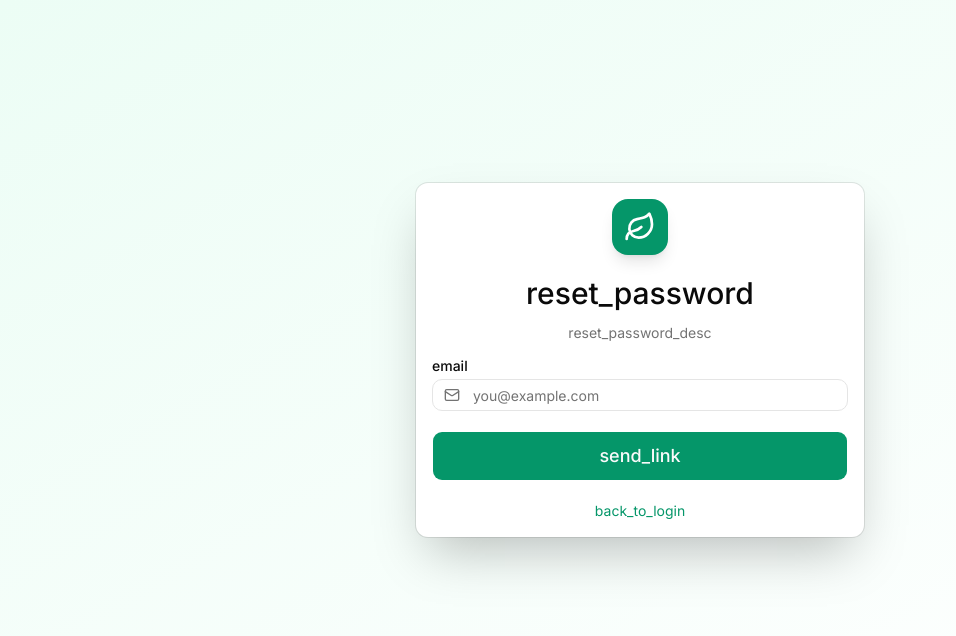
it: ForgotPasswordPage › shows error on failure
Expected: the text "reset_password" is shown, [526,275,754,311]
Type "test@example.com" into the field labelled "email" at (640, 395), box [432,379,848,411]
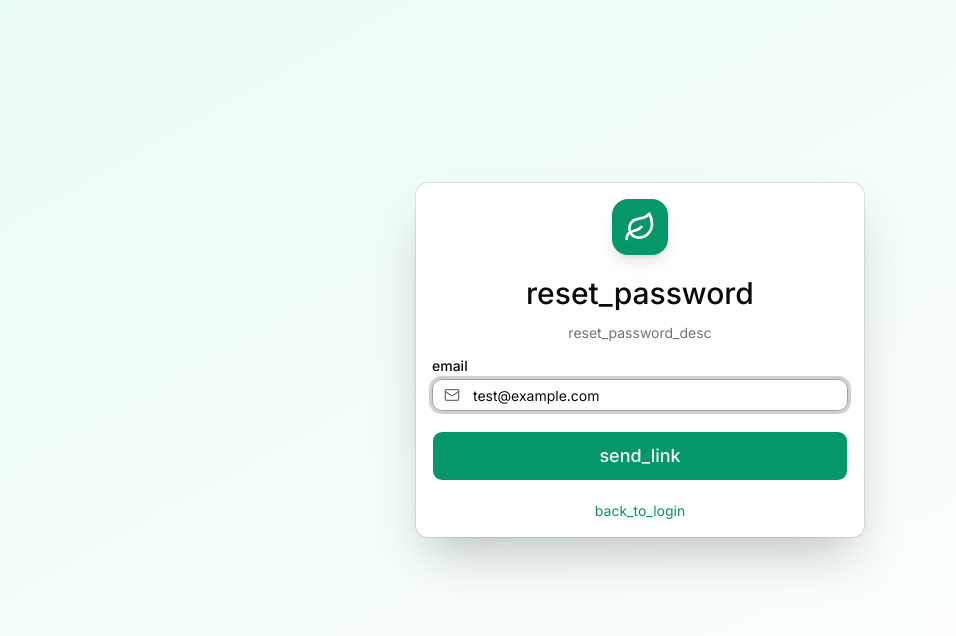
Click the button "send_link" at (640, 456), box [432,431,848,481]
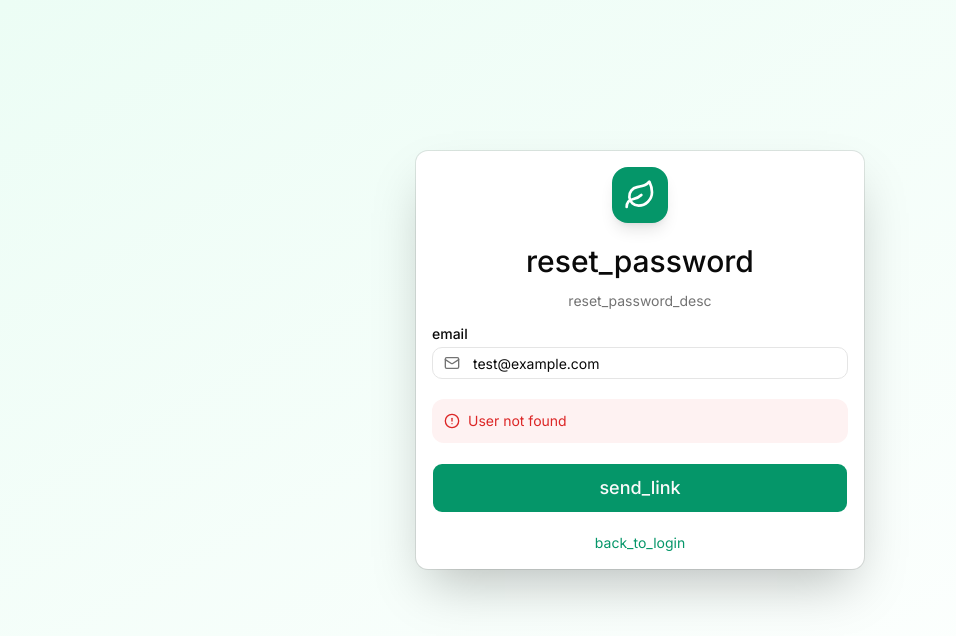
Expected: the text "User not found" is shown, [468,411,567,431]
